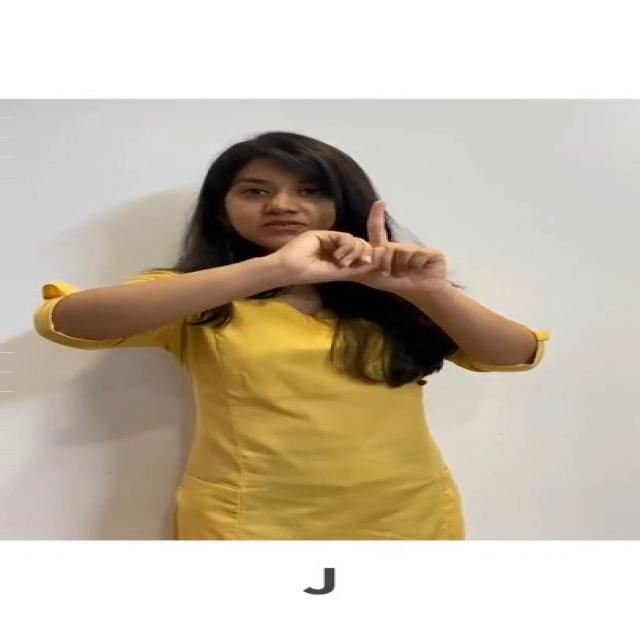J: (264, 192, 463, 304)
